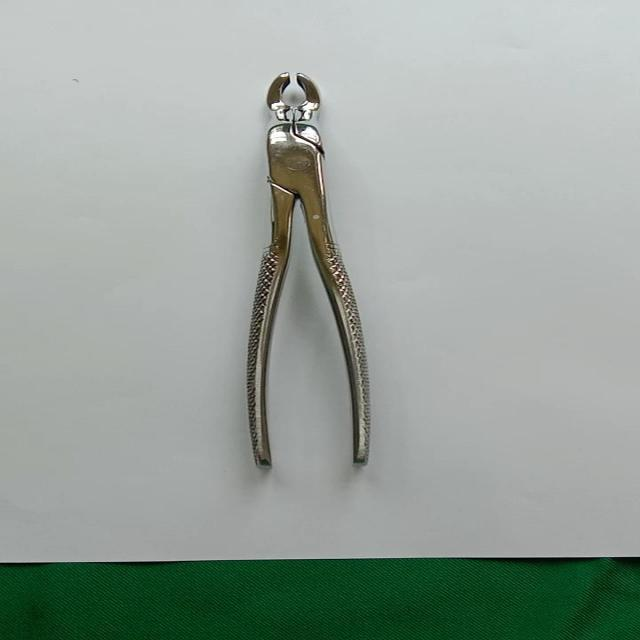BayonetForcep: (237, 68, 394, 472)
